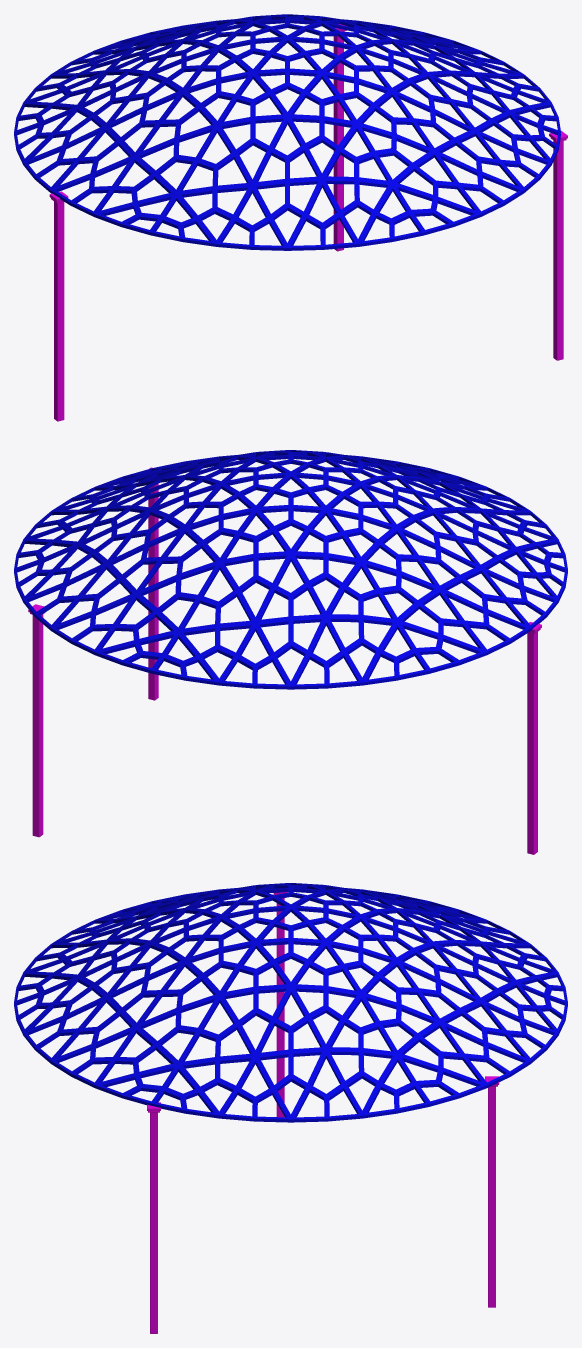
Rendered from Veranda.fbx.
3 renders of one model, top to bottom at view 1: azimuth 30°, elevation 25°; view 2: azimuth 150°, elevation 25°; view 3: azimuth 270°, elevation 25°, orthographic.
Visible parts, largest first — view 1: pDisc2; view 2: pDisc2; view 3: pDisc2.
Part boxes in pixels (x1,y1,x2,y2): pDisc2: [14, 14, 567, 421]; pDisc2: [14, 450, 567, 854]; pDisc2: [14, 883, 567, 1333].
Bounding box in the file's own units: 3371 × 2171 × 3351.
